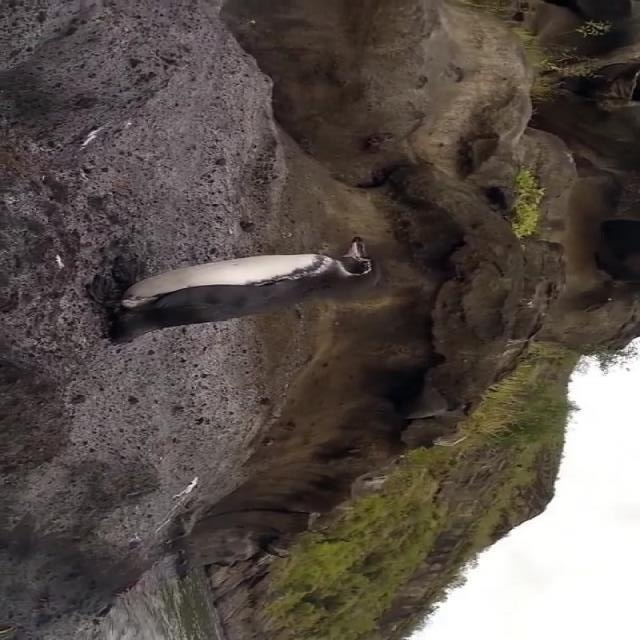penguin: (85, 236, 381, 346)
